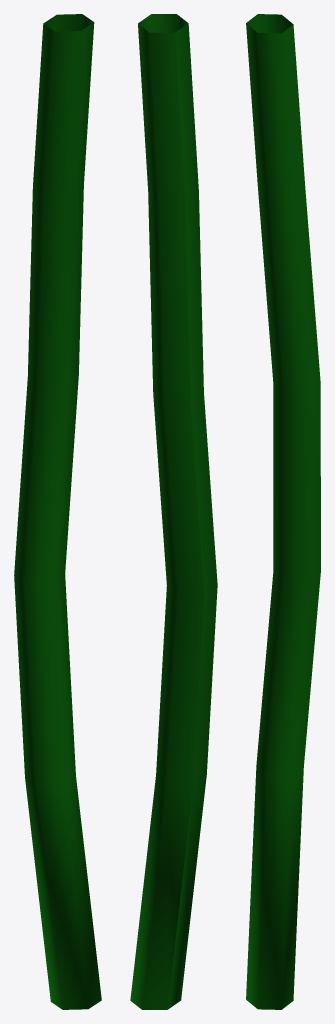
File: Stem3.DAE
The picture shows the model from 3 angles, left to right: view 1: azimuth 30°, elevation 25°; view 2: azimuth 210°, elevation 25°; view 3: azimuth 270°, elevation 25°; orthographic projection.
Visible parts, largest first — view 1: mesh04; view 2: mesh04; view 3: mesh04.
Part boxes in pixels (x1=…): mesh04: x1=14, y1=14, x2=101, y2=1009; mesh04: x1=130, y1=14, x2=217, y2=1009; mesh04: x1=246, y1=14, x2=320, y2=1009.
Bounding box in the file's own units: 0.3468 × 5.25 × 0.3663.
